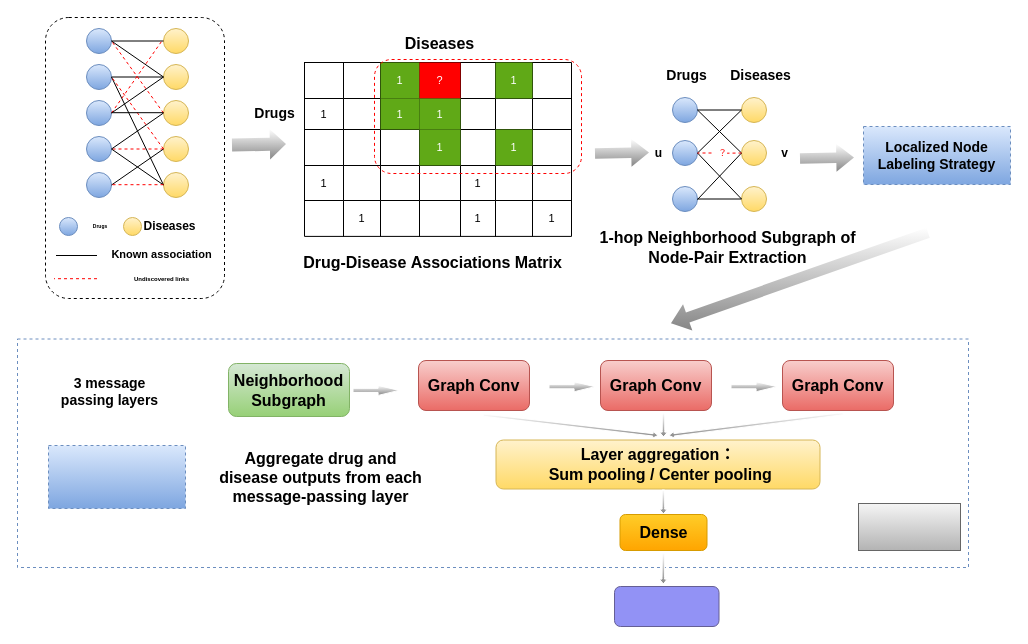
The diagram is 1028 pixels wide and 644 high, and some of its shapes have lost their labels. Each missing label, with the centre of its shape:
"GNN" goes at pixel 909 526.
"Prediction" goes at pixel 666 606.
"Traing Loss: BCEloss Function" goes at pixel 117 476.
